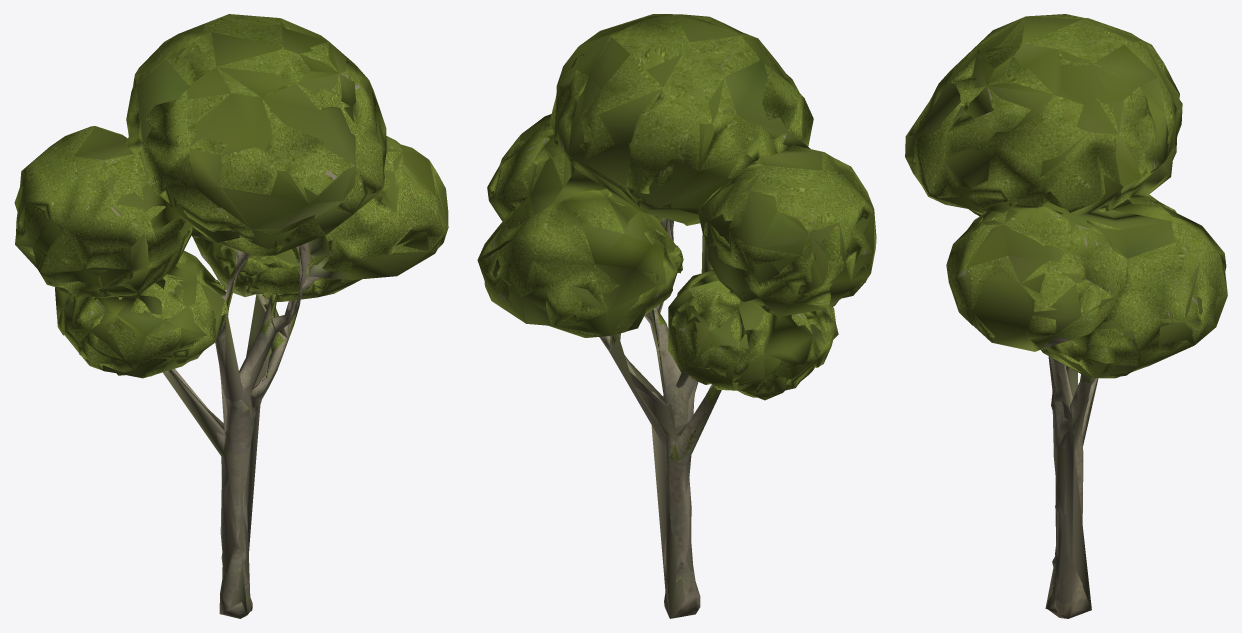
File: haya_joven.glb
3 views of the same model, side by side, from view 1: azimuth 30°, elevation 25°; view 2: azimuth 150°, elevation 25°; view 3: azimuth 270°, elevation 25° (orthographic).
Parts seen in each view (by area): view 1: cerca, medio, lejos; view 2: cerca, medio, lejos; view 3: cerca, medio, lejos.
Part boxes in pixels (x1,y1,x2,y2): cerca: (14, 14, 448, 618); medio: (15, 18, 448, 614); lejos: (19, 18, 448, 614); cerca: (477, 14, 876, 618); medio: (478, 14, 874, 618); lejos: (492, 17, 872, 617); cerca: (905, 14, 1227, 618); medio: (905, 16, 1227, 617); lejos: (905, 17, 1227, 609).
Bounding box in the file's own units: 2.81 × 3.94 × 1.97.
Materials: 2 (1 with a texture image).
